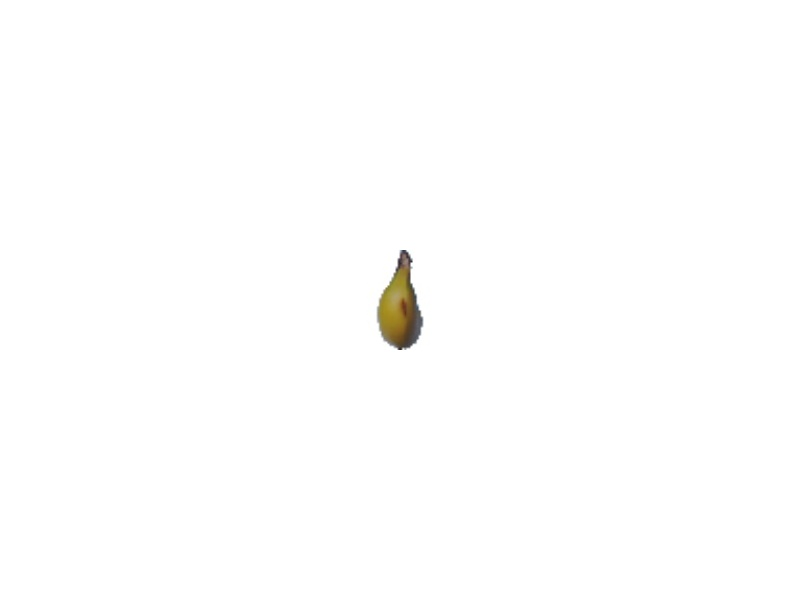banana: (375, 249, 427, 350)
